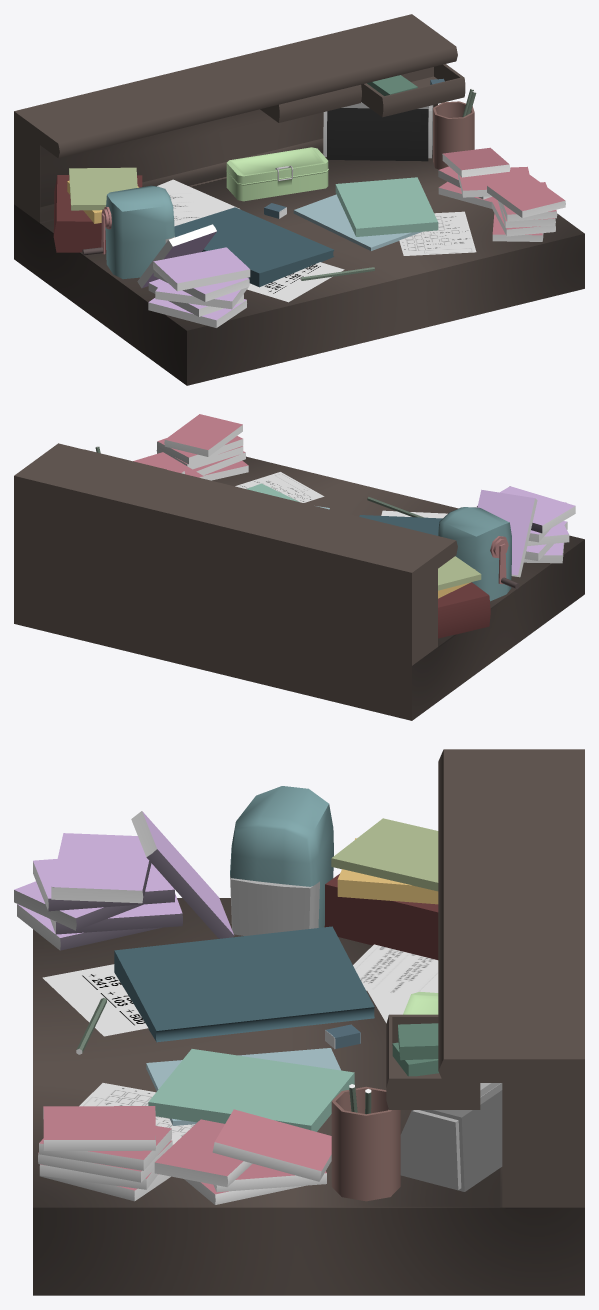
Rendered from back.fbx.
3 renders of one model, top to bottom at view 1: azimuth 30°, elevation 25°; view 2: azimuth 150°, elevation 25°; view 3: azimuth 270°, elevation 25°, orthographic. The views are drawn at different scales.
Parts seen in each view (by area): view 1: desk, book, clock, enpitukezuri, book1, pencase, hikidasi, comic, zisyo, text1, peper3, pentate (+17 smaller); view 2: desk, enpitukezuri, zisyo, comic1, comic10, comic, peper3, text1, book, comic9, comic8, comic3 (+4 smaller); view 3: desk, book, book1, enpitukezuri, clock, pentate, comic, zisyo, comic14, text1, comic10, polymsh_detached (+23 smaller).
Part boxes in pixels (x1,y1,x2,y2): desk: (14, 14, 584, 385); book: (174, 207, 333, 287); clock: (323, 102, 433, 161); enpitukezuri: (105, 185, 174, 279); book1: (335, 177, 438, 236); pencase: (226, 147, 328, 201); hikidasi: (361, 64, 465, 117); comic: (153, 247, 250, 291); zisyo: (53, 175, 142, 252); text1: (69, 167, 137, 210); peper3: (399, 211, 476, 255); pentate: (433, 101, 474, 169); desk: (14, 443, 584, 720); enpitukezuri: (437, 507, 511, 601); zisyo: (438, 582, 490, 638); comic1: (477, 489, 537, 577); comic10: (164, 414, 242, 456); comic: (476, 486, 575, 533); peper3: (235, 472, 324, 502); text1: (438, 556, 481, 590); book: (359, 515, 442, 535); comic9: (157, 436, 243, 464); comic8: (156, 446, 243, 469); comic3: (527, 521, 569, 545); desk: (33, 749, 584, 1295); book: (114, 926, 374, 1042); book1: (148, 1049, 354, 1131); enpitukezuri: (230, 786, 333, 927); clock: (400, 1083, 502, 1191); pentate: (331, 1086, 400, 1201); comic: (51, 833, 151, 903); zisyo: (325, 874, 438, 959); comic14: (212, 1109, 331, 1181); text1: (331, 818, 438, 891); comic10: (43, 1106, 155, 1150); polymsh_detached: (230, 875, 319, 935).
Bounding box in the file's own units: 75.79 × 25.45 × 55.75.
